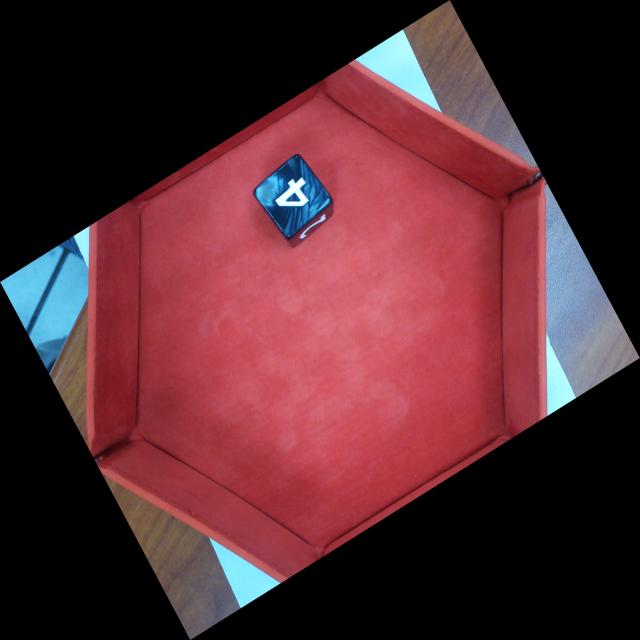dice: (254, 155, 331, 236)
